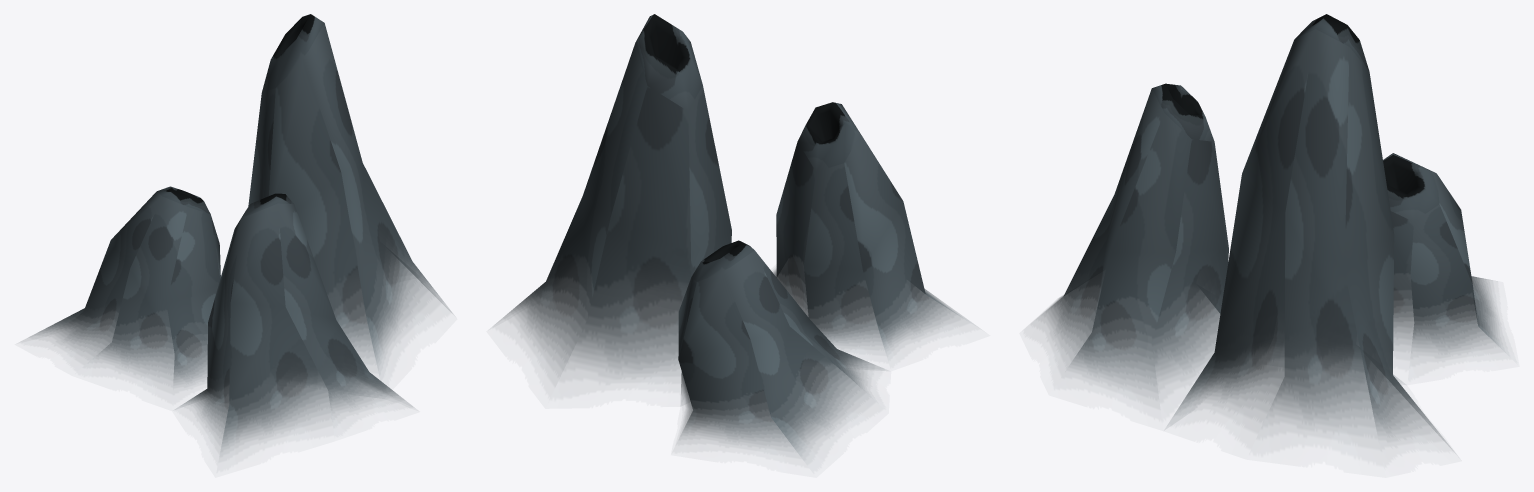
File: Volcanic Vent 2x 2_preview_3DS_simplified.glb
3 views of the same model, side by side, from view 1: azimuth 30°, elevation 25°; view 2: azimuth 150°, elevation 25°; view 3: azimuth 270°, elevation 25° (orthographic). The views are drawn at different scales.
Visible parts, largest first — view 1: Marine Park Empire model; view 2: Marine Park Empire model; view 3: Marine Park Empire model.
Part boxes in pixels (box(x1,y1,x2,y2)): Marine Park Empire model: box(21, 14, 452, 462); Marine Park Empire model: box(493, 14, 978, 465); Marine Park Empire model: box(1030, 14, 1510, 453).
Bounding box in the file's own units: 75.89 × 68.28 × 73.95.
Materials: 1 (1 with a texture image).
